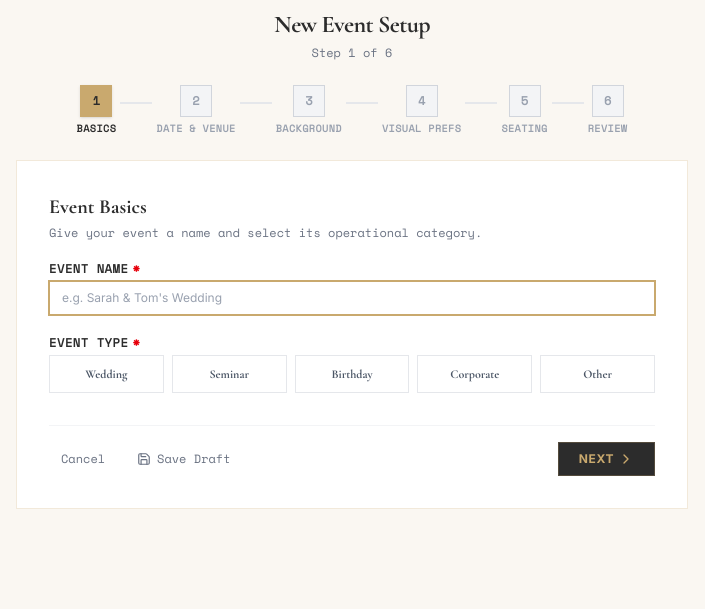
Test: ProjectSetupWizard › blocks Step 1 → Step 2 if event type is not selected
The image size is (705, 609).
Type "Test" into the field labelled "Event Name*" at (352, 298), box [49,281,655,315]
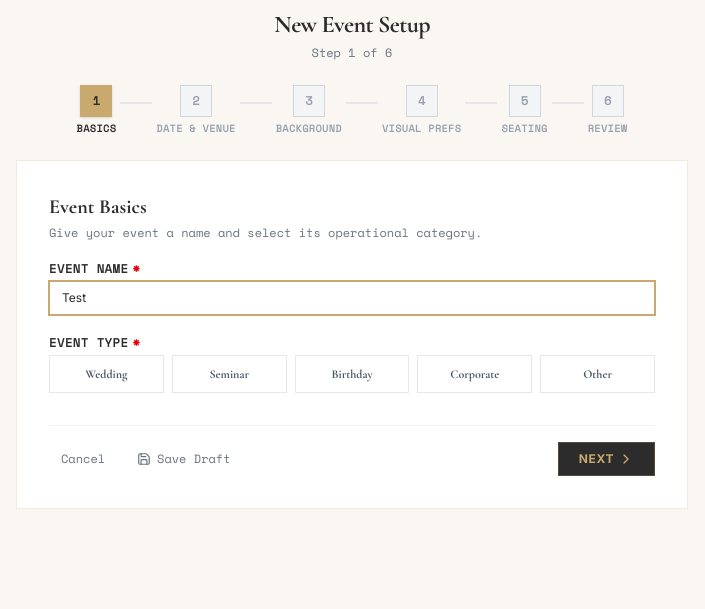
Click the button "Next" at (606, 459), box [558,442,655,476]
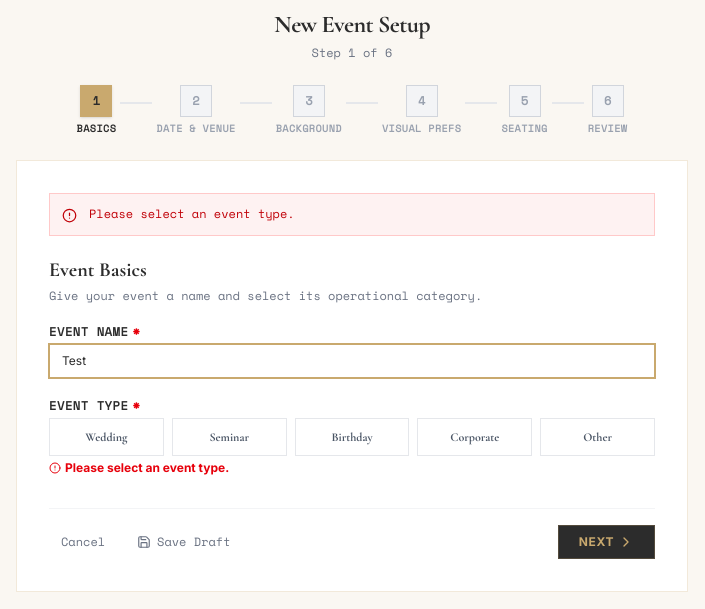
Expected: the list item "Please select an event type." is shown, [89,206,295,222]
